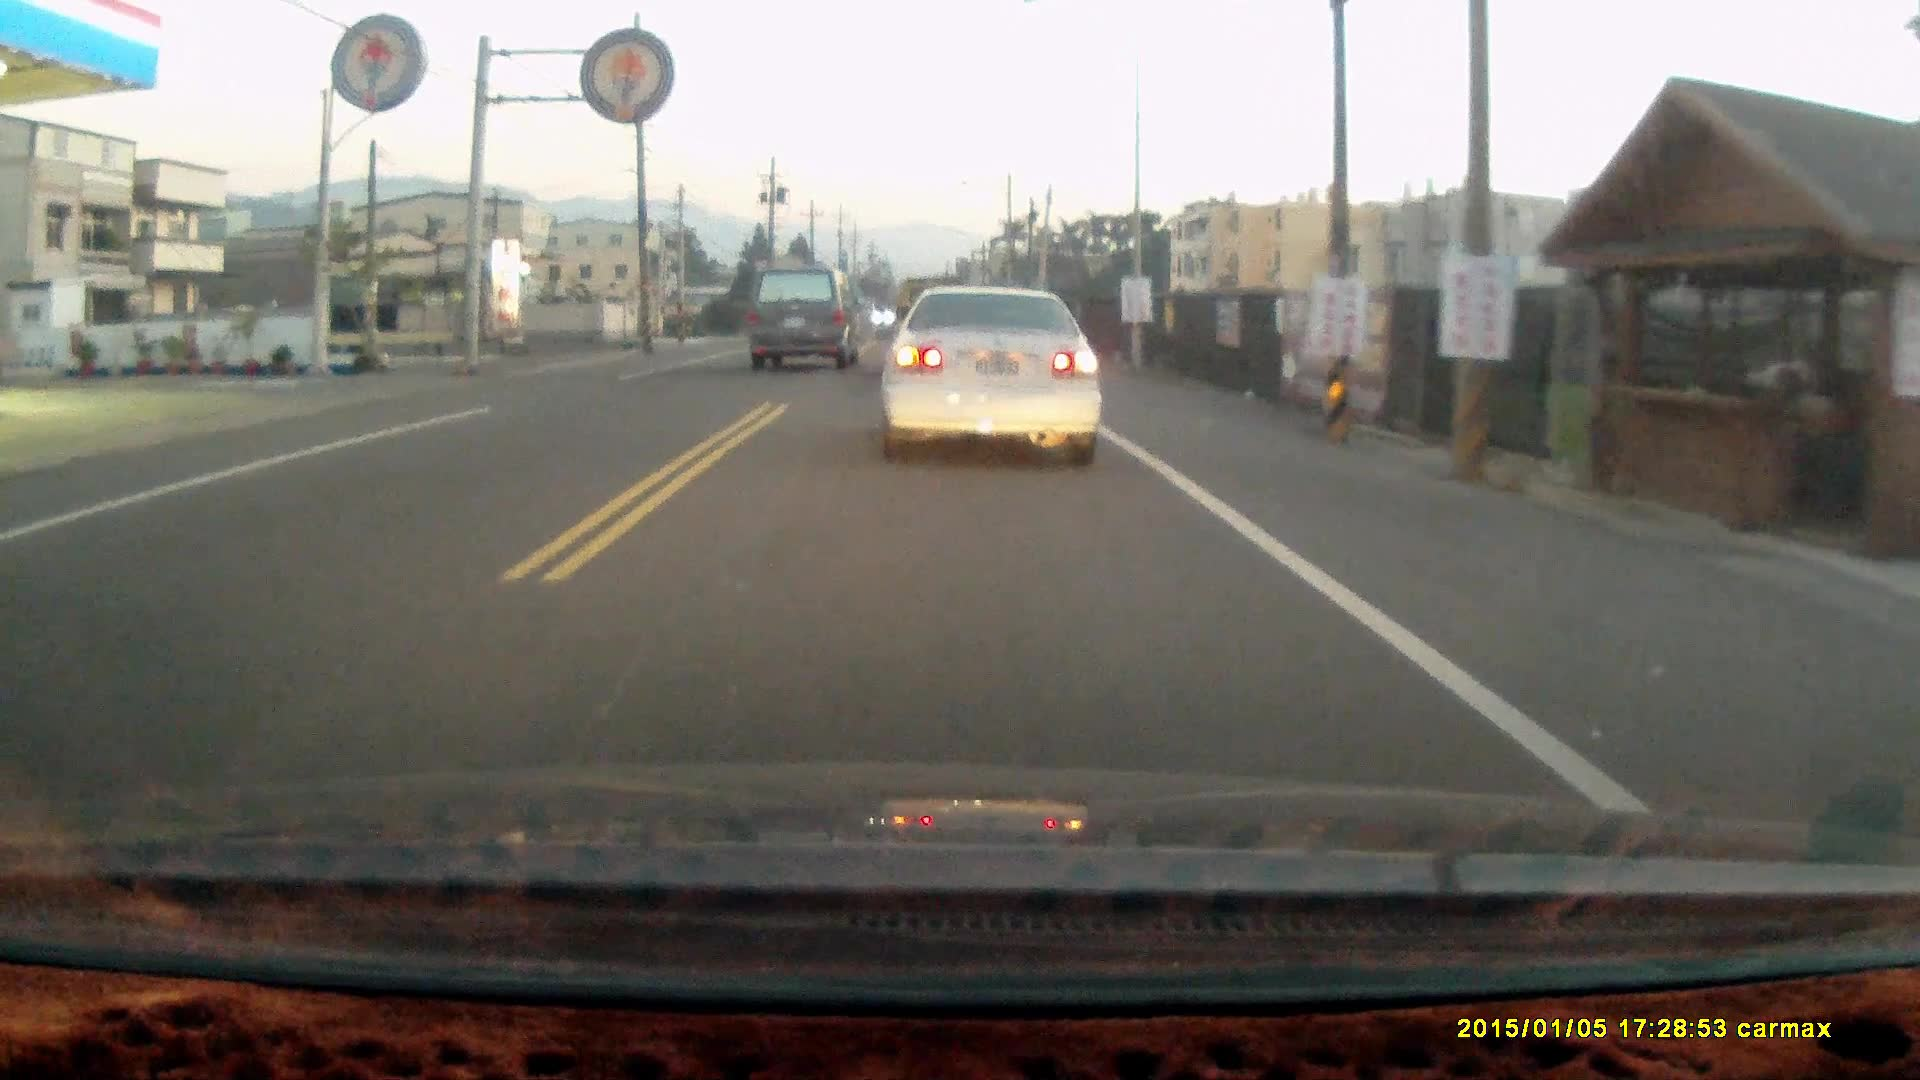pedestrian: (1768, 358, 1834, 491)
vehicle: (875, 280, 1104, 467), (740, 261, 861, 374)
